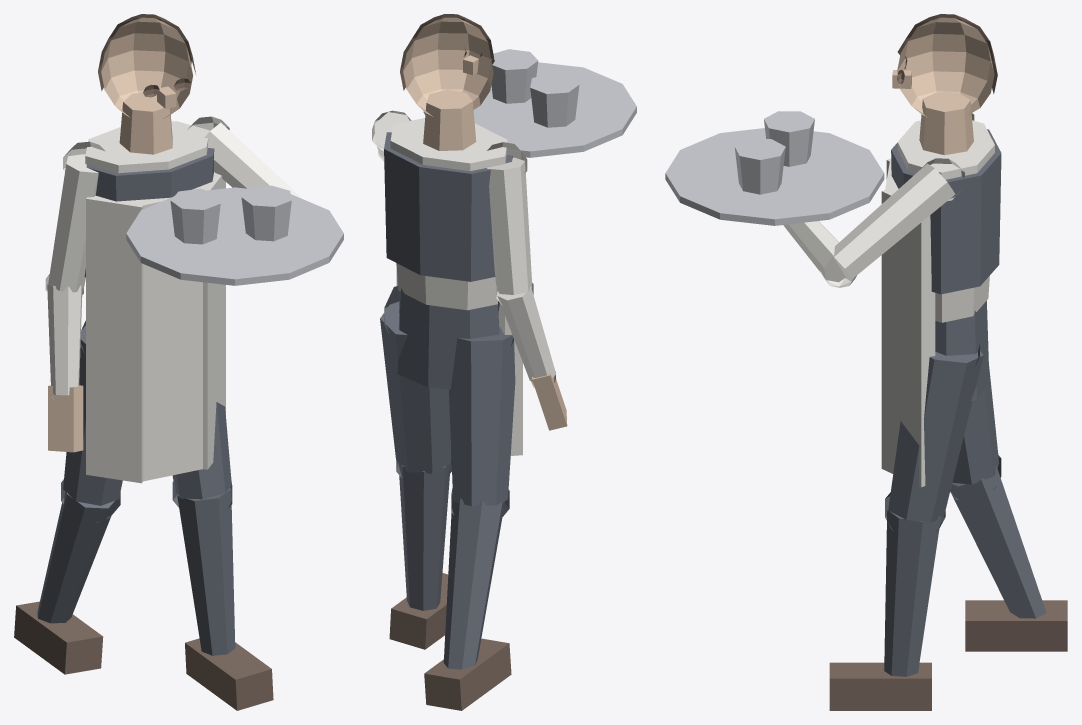
The model's file is low-poly-character-figures-waiter-with-tray-59369bb3.glb.
The picture shows the model from 3 angles, left to right: view 1: azimuth 30°, elevation 25°; view 2: azimuth 150°, elevation 25°; view 3: azimuth 270°, elevation 25°; orthographic projection. The views are drawn at different scales.
Visible parts, largest first — view 1: waiter-with-tray; view 2: waiter-with-tray; view 3: waiter-with-tray.
Part boxes in pixels (x1,y1,x2,y2): waiter-with-tray: (14,14,343,710); waiter-with-tray: (372,14,636,710); waiter-with-tray: (665,14,1067,710).
Bounding box in the file's own units: 0.6189 × 1.66 × 0.9152.
